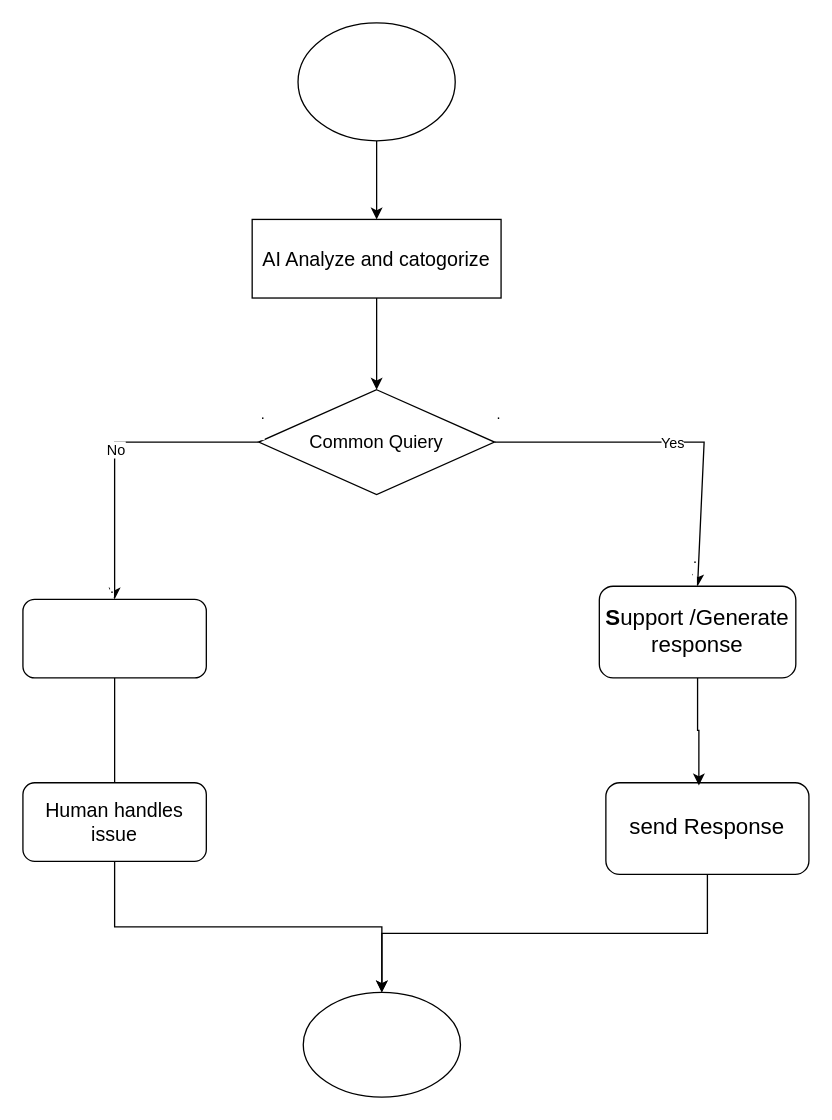
The diagram is 832 pixels wide and 1120 high, and some of its shapes have lost their labels. Each missing label, with the box of its shape:
End: (302, 991, 460, 1097)
Incoming Email: (297, 22, 455, 141)
Route to human Agent: (22, 598, 206, 678)
